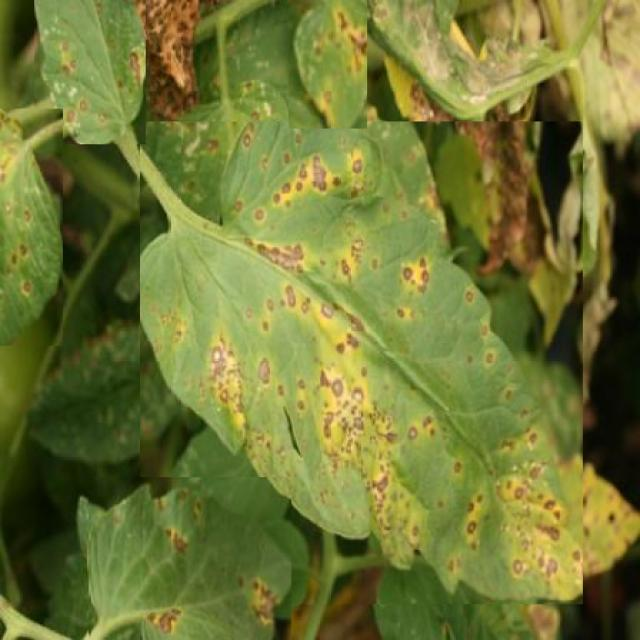Septoria: (140, 121, 582, 604), (88, 477, 292, 640), (34, 0, 145, 144), (0, 108, 63, 346), (289, 0, 367, 129)
